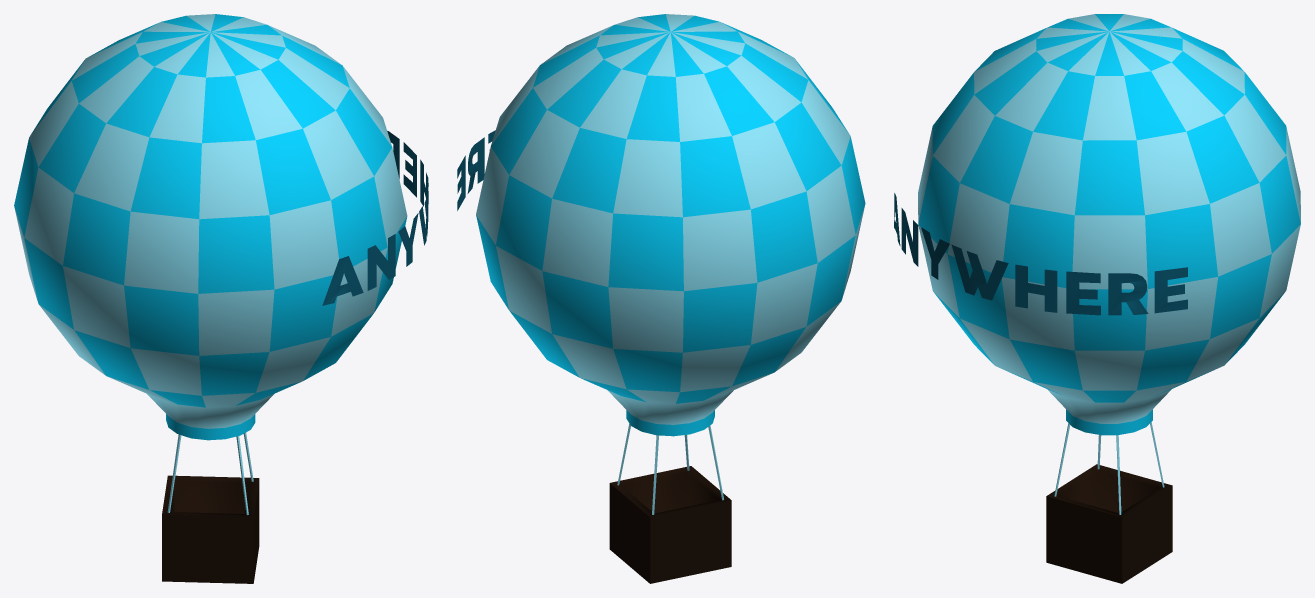
File: Ballon_B_Animate.glb
The picture shows the model from 3 angles, left to right: view 1: azimuth 30°, elevation 25°; view 2: azimuth 150°, elevation 25°; view 3: azimuth 270°, elevation 25°; orthographic projection.
Visible parts, largest first — view 1: Ballon_B; view 2: Ballon_B; view 3: Ballon_B.
Part boxes in pixels (<box>): Ballon_B: <box>14,14,428,583</box>; Ballon_B: <box>457,14,865,583</box>; Ballon_B: <box>894,14,1300,583</box>.
Size of the model in its own units: 2.71 by 3.86 by 2.71.
Materials: 1 (1 with a texture image).
